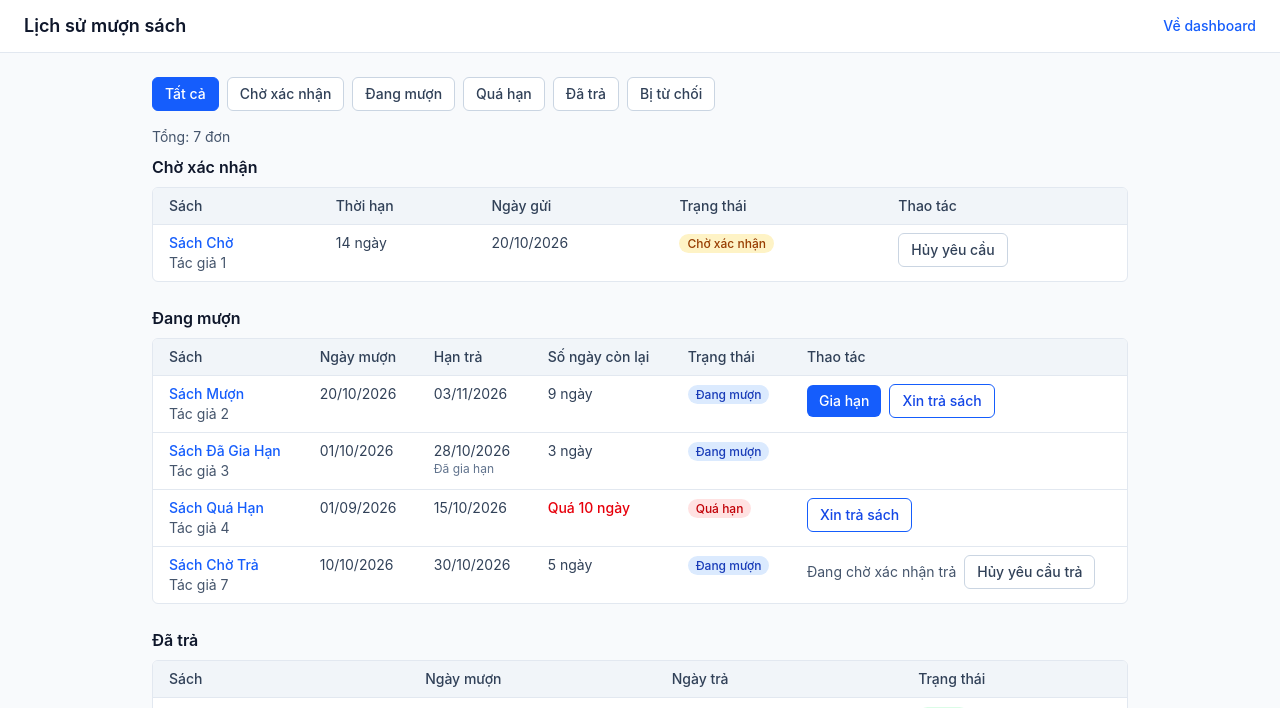
BorrowHistoryPage – Xin trả sách (2.4.1) › edge 5: hủy yêu cầu trả đang chờ sau khi hỏi lại
The image size is (1280, 708).
Click the button with aria-label "Hủy yêu cầu trả Sách Chờ Trả" at (1030, 572), box [964,555,1096,589]
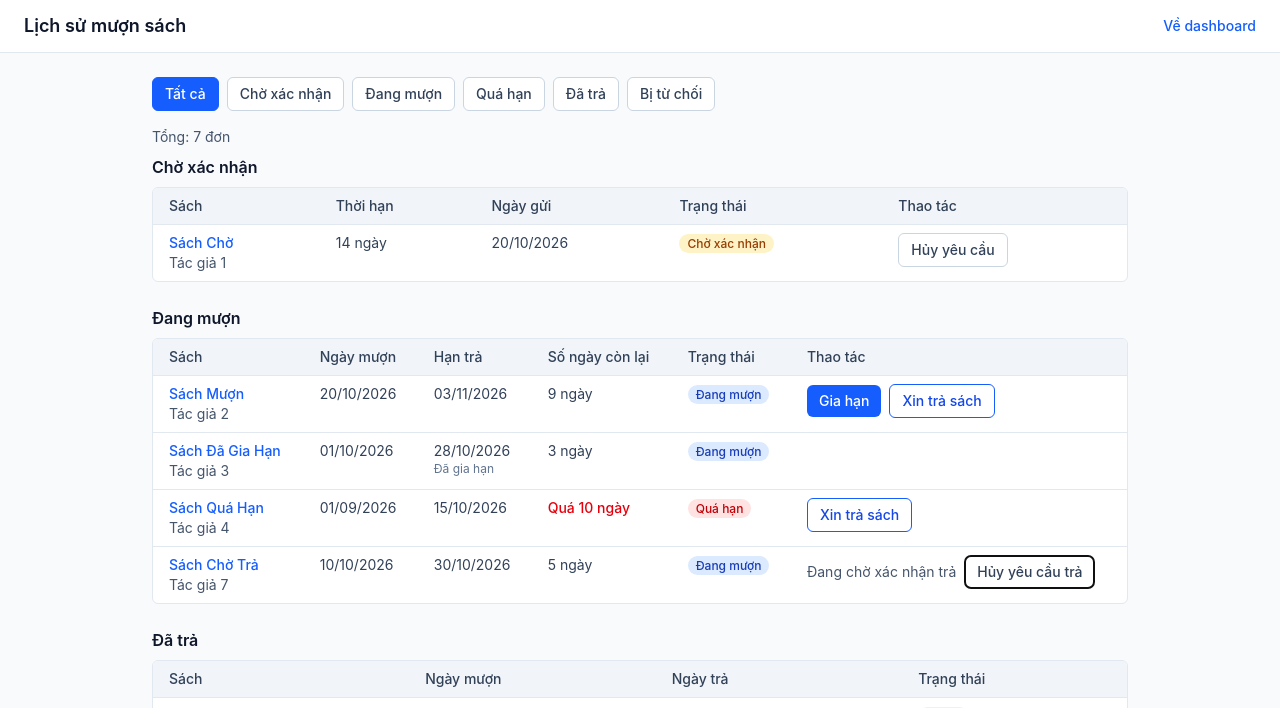
Click the button with aria-label "Hủy yêu cầu trả Sách Chờ Trả" at (1030, 572), box [964,555,1096,589]
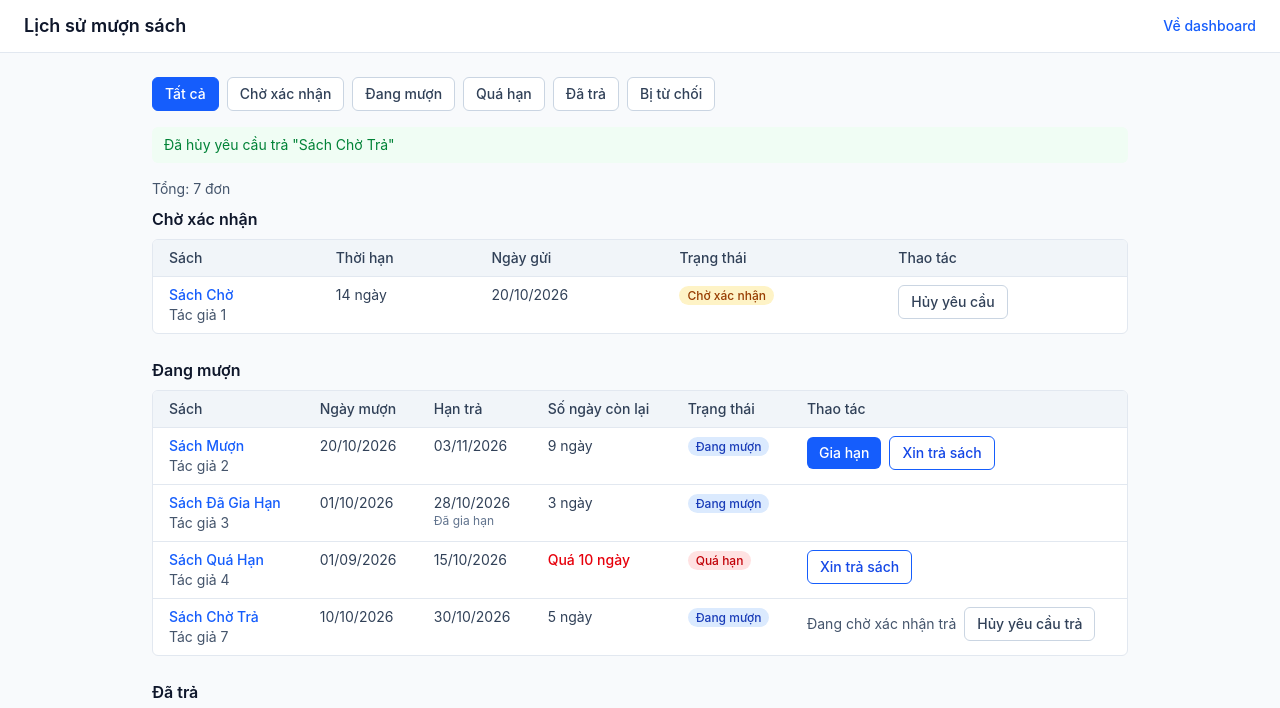
Expected: the message reads "Đã hủy yêu cầu trả \"Sách Chờ Trả\"", [164,136,395,153]
